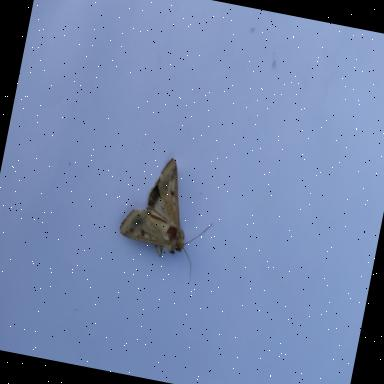abw: (110, 150, 225, 285)
